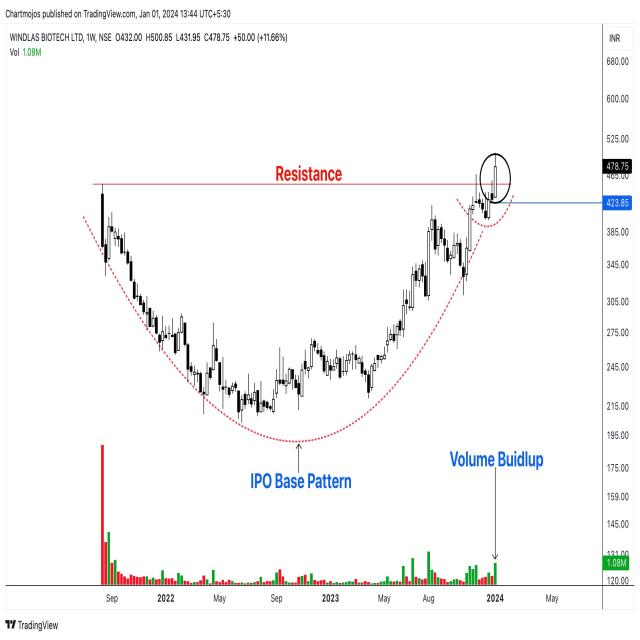Cup-and-handle: (93, 191, 479, 434)
